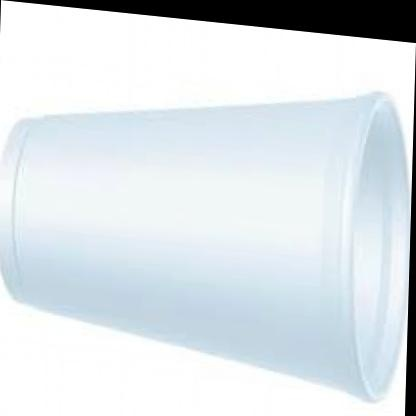trash: (0, 95, 409, 399)
